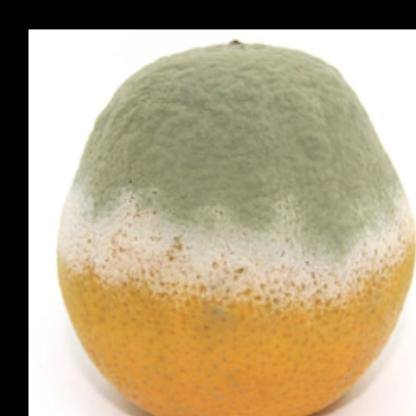rotten: (56, 41, 416, 416)
